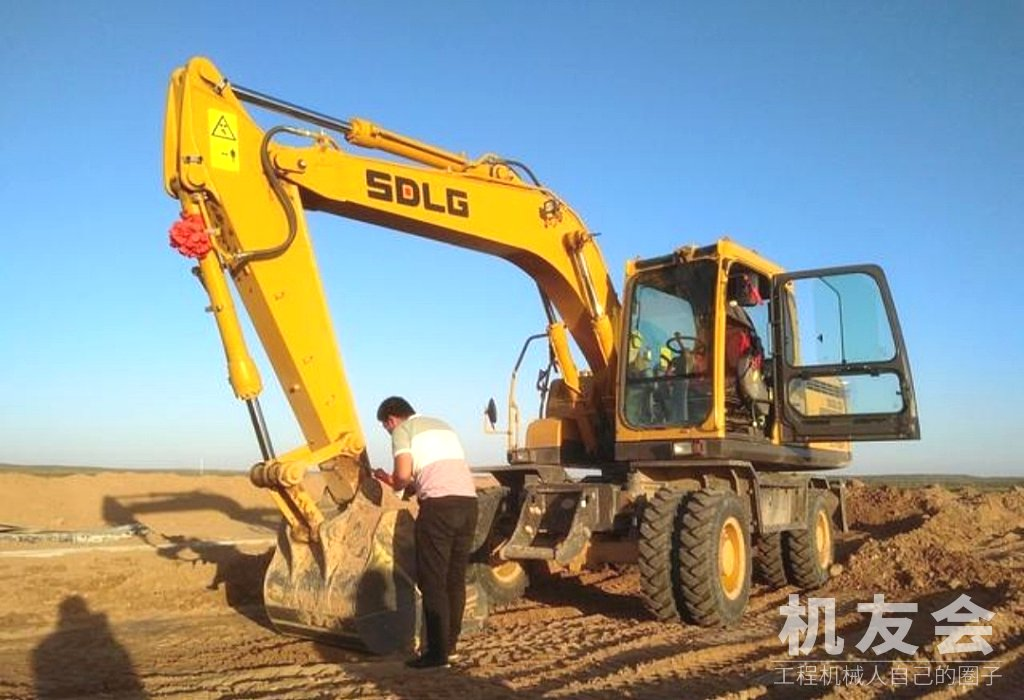excavator: (191, 95, 937, 666)
